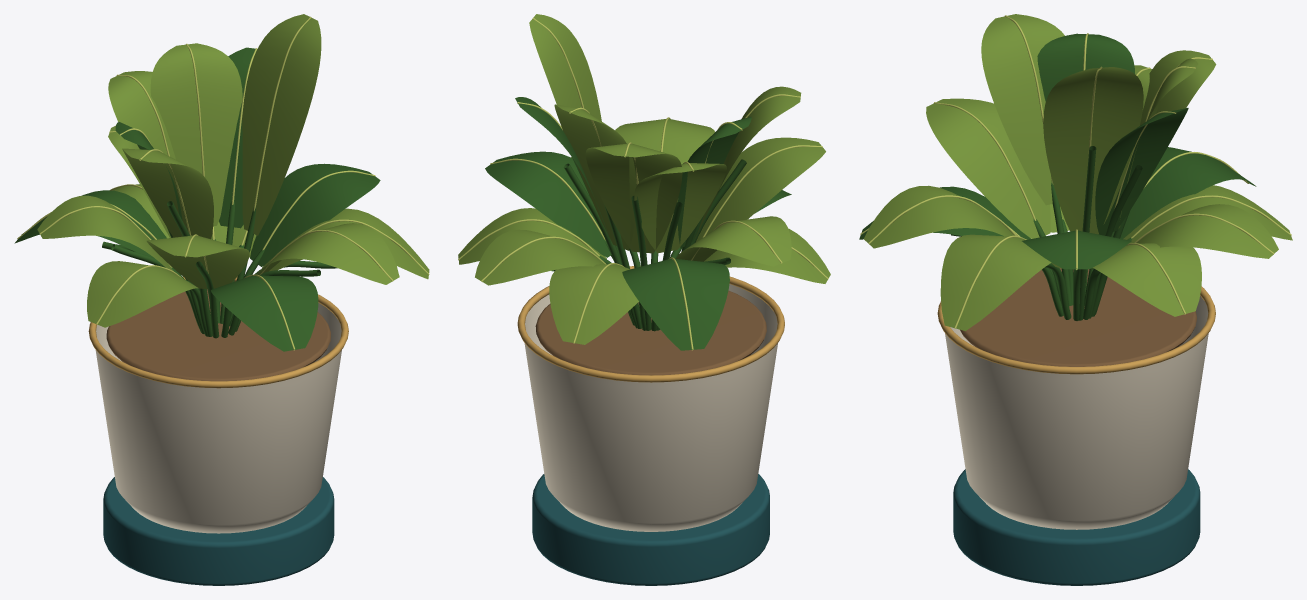
The model's file is plant.glb.
3 renders of one model, left to right at view 1: azimuth 30°, elevation 25°; view 2: azimuth 150°, elevation 25°; view 3: azimuth 270°, elevation 25°, orthographic. The views are drawn at different scales.
Visible parts, largest first — view 1: leaf_light_refined, ivory.006, leaf_deep_refined, teal.006, brown.006, vein, brass.006; view 2: leaf_light_refined, ivory.006, leaf_deep_refined, teal.006, brown.006, brass.006, vein; view 3: leaf_light_refined, ivory.006, leaf_deep_refined, teal.006, brown.006, vein, brass.006.
Part boxes in pixels (<box>): leaf_light_refined: <box>37,14,429,327</box>; ivory.006: <box>95,303,341,533</box>; leaf_deep_refined: <box>14,47,380,351</box>; teal.006: <box>103,477,334,585</box>; brown.006: <box>106,289,330,381</box>; vein: <box>17,16,429,350</box>; brass.006: <box>88,276,348,388</box>; leaf_light_refined: <box>458,14,830,344</box>; ivory.006: <box>524,284,777,531</box>; leaf_deep_refined: <box>485,97,791,350</box>; teal.006: <box>532,474,769,585</box>; brown.006: <box>535,290,766,375</box>; brass.006: <box>517,266,784,382</box>; vein: <box>458,18,828,350</box>; leaf_light_refined: <box>864,14,1292,330</box>; ivory.006: <box>945,296,1208,529</box>; leaf_deep_refined: <box>859,33,1256,320</box>; teal.006: <box>953,469,1200,585</box>; brown.006: <box>960,268,1196,366</box>; vein: <box>860,15,1291,328</box>; brass.006: <box>937,286,1215,374</box>.
Bounding box in the file's own units: 0.5971 × 0.887 × 0.6667.
